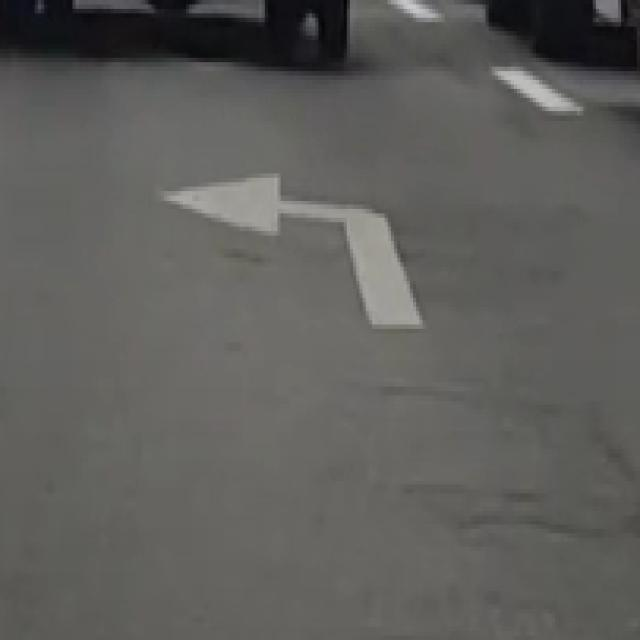left: (155, 168, 430, 334)
